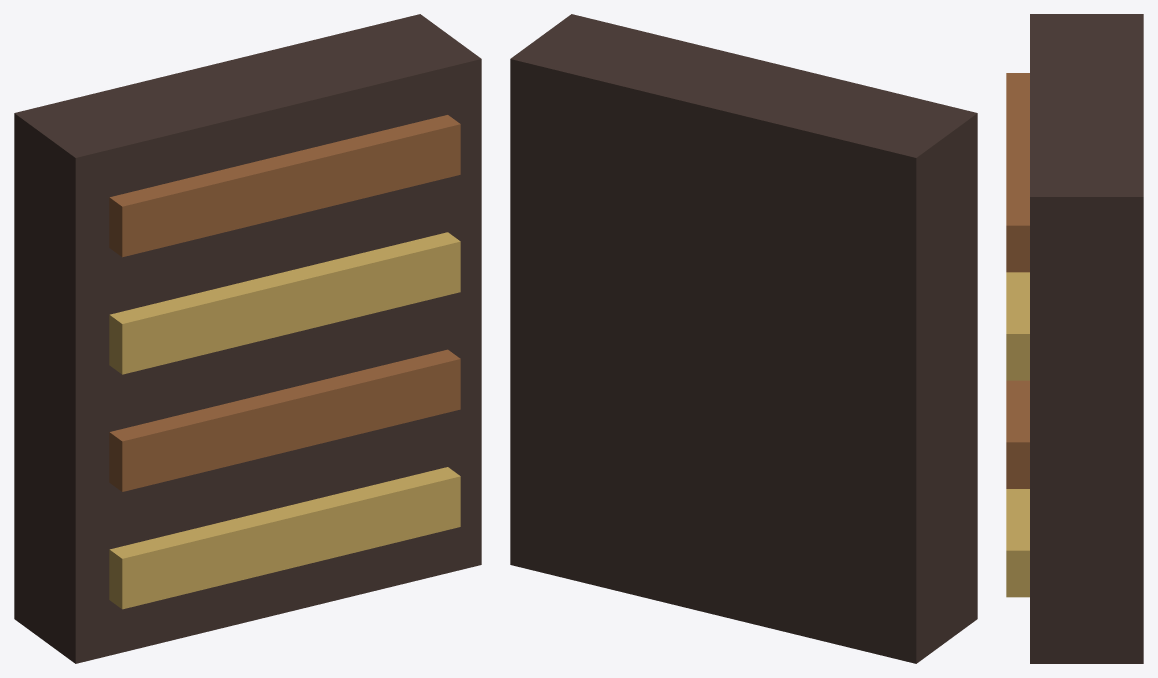
File: bookcase.glb
The picture shows the model from 3 angles, left to right: view 1: azimuth 30°, elevation 25°; view 2: azimuth 150°, elevation 25°; view 3: azimuth 270°, elevation 25°; orthographic projection. The views are drawn at different scales.
Parts seen in each view (by area): view 1: bookcase_body, bookcase_row_0, bookcase_row_2, bookcase_row_1, bookcase_row_3; view 2: bookcase_body; view 3: bookcase_body, bookcase_row_3, bookcase_row_0, bookcase_row_1, bookcase_row_2.
Part boxes in pixels (x1,y1,x2,y2): bookcase_body: (14, 14, 481, 663); bookcase_row_0: (109, 467, 460, 609); bookcase_row_2: (109, 232, 460, 374); bookcase_row_1: (109, 349, 460, 491); bookcase_row_3: (109, 115, 460, 257); bookcase_body: (510, 14, 977, 663); bookcase_body: (1030, 14, 1143, 663); bookcase_row_3: (1006, 73, 1029, 272); bookcase_row_0: (1006, 489, 1029, 597); bookcase_row_1: (1006, 380, 1029, 488); bookcase_row_2: (1006, 272, 1029, 380).
Size of what is drawn, in the model's own units: 2.1 by 2.5 by 0.665.
